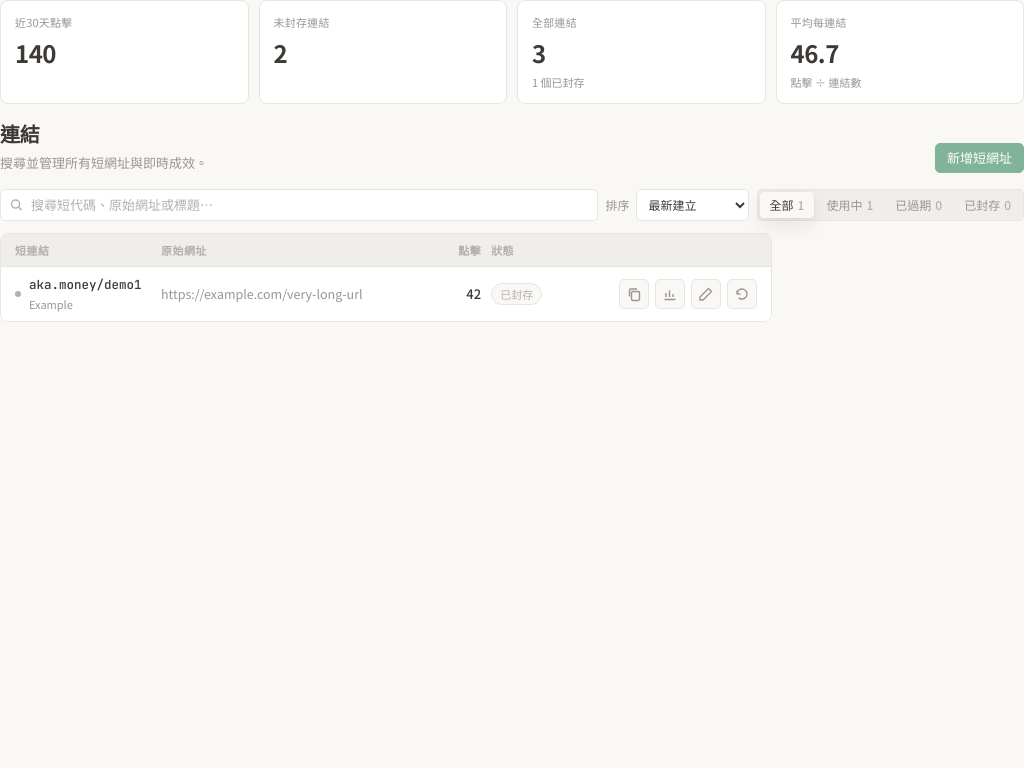
Scenario: DashboardView › restores a URL after confirming in the modal
The width and height of the screenshot is (1024, 768).
What coordinates should you click on to do the following:
click the button with test id "row-restore"
I would click on:
 (742, 294)
Its box is [727, 279, 757, 309].
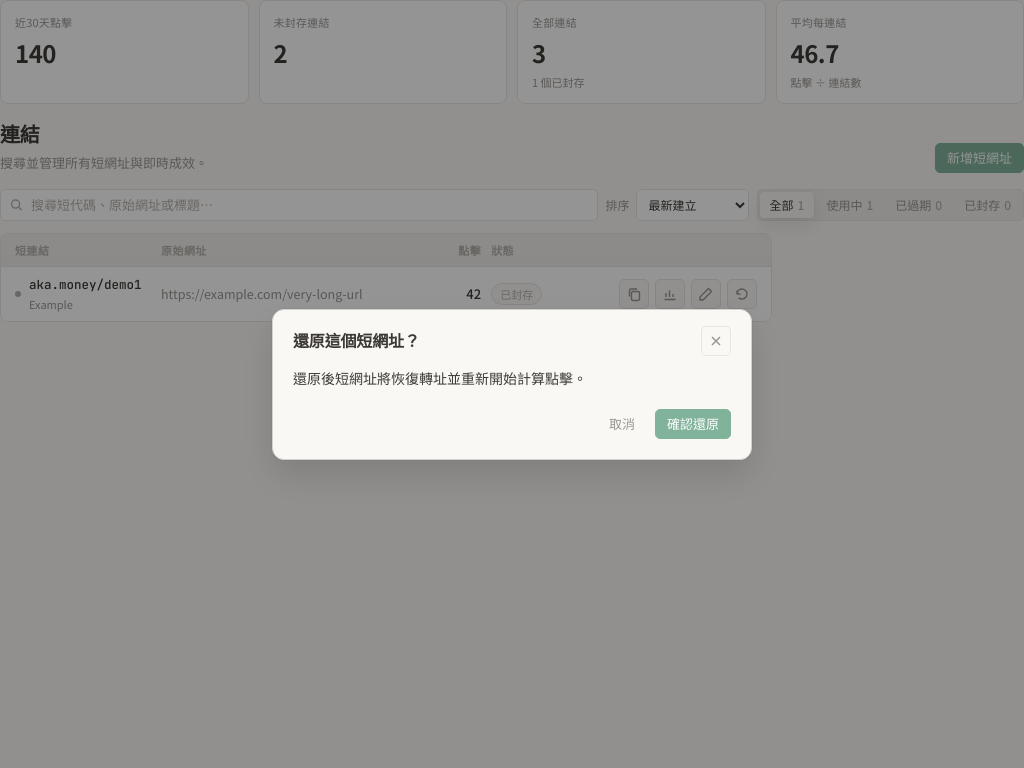
What coordinates should you click on to do the following:
click the button with test id "confirm-action"
I would click on:
 (693, 424)
Its box is [655, 408, 731, 438].
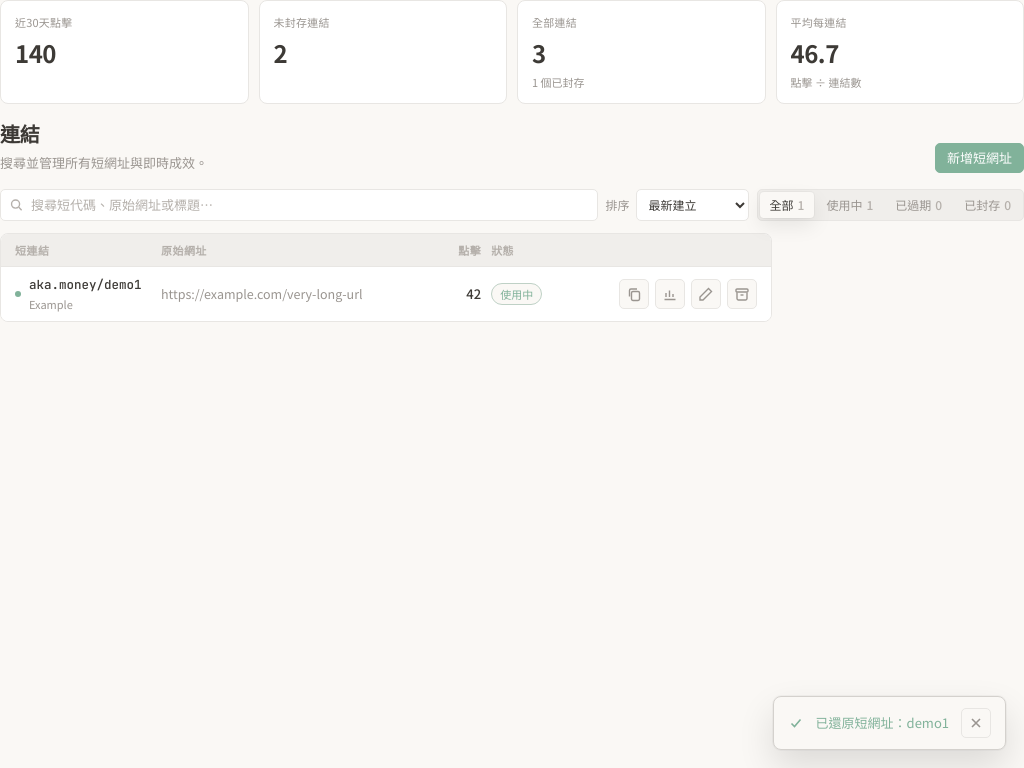
Now the text "已還原短網址" is shown, box [816, 713, 949, 732]
